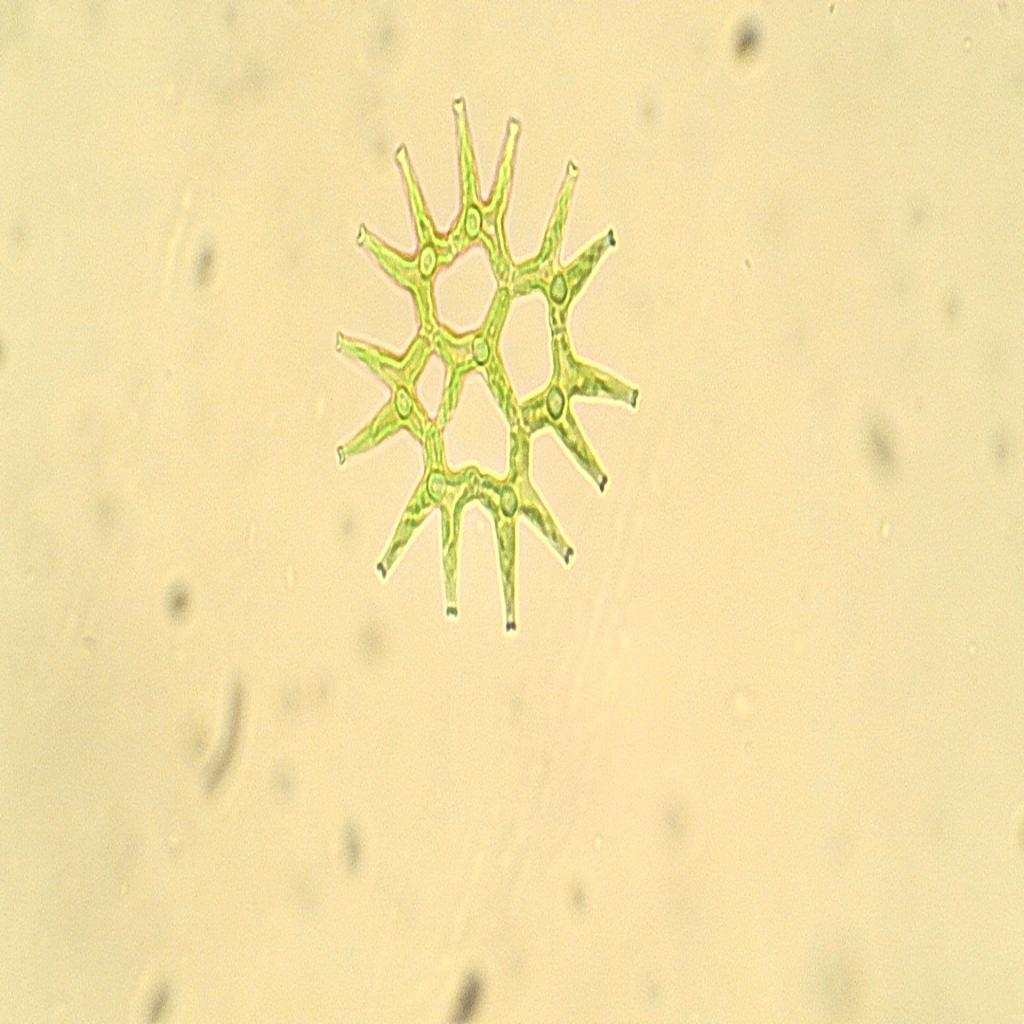Pediastrum_CTH: (326, 92, 646, 665)
